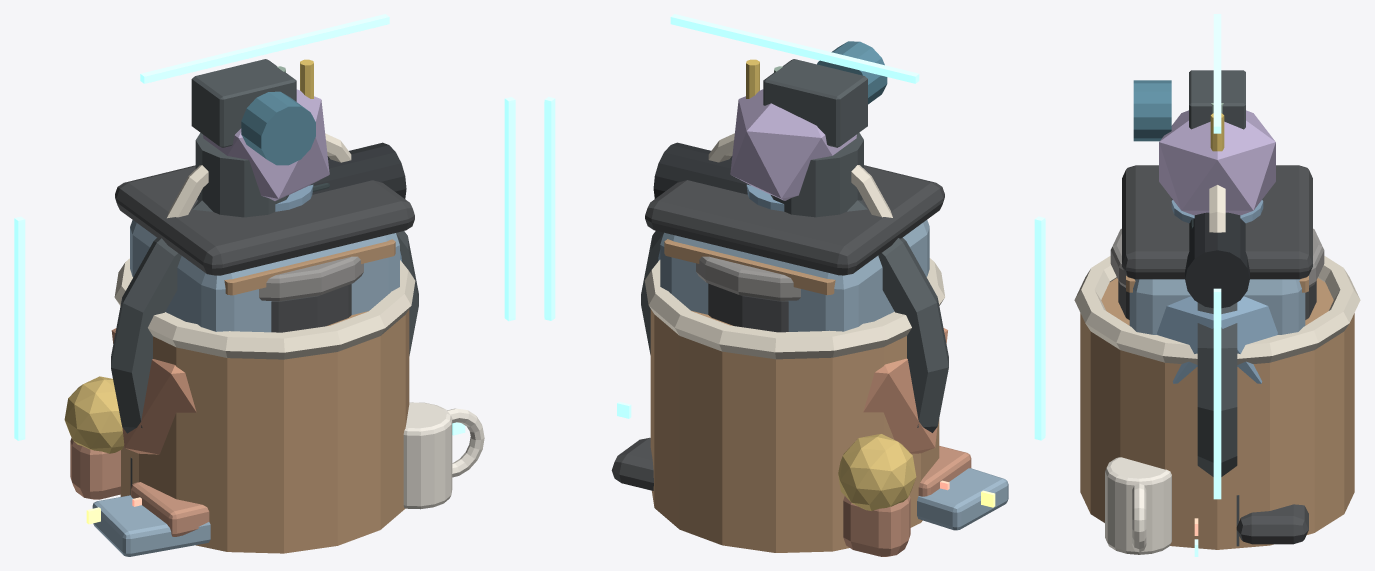
File: desk-details.glb
3 renders of one model, left to right at view 1: azimuth 30°, elevation 25°; view 2: azimuth 150°, elevation 25°; view 3: azimuth 270°, elevation 25°, orthographic. The views are drawn at different scales.
Parts seen in each view (by area): view 1: HF_WovenBasket, HF_Bin_Recycle, HF_DeskProps_Personality, HF_CameraTripod, HF_SculptureAbstract, HF_LEDStripFrame, HF_DisplayPedestal, HF_Bin_Waste, HF_BoomMicrophone; view 2: HF_WovenBasket, HF_Bin_Recycle, HF_DeskProps_Personality, HF_SculptureAbstract, HF_CameraTripod, HF_DisplayPedestal, HF_LEDStripFrame, HF_Bin_Waste, HF_BoomMicrophone; view 3: HF_WovenBasket, HF_Bin_Recycle, HF_DisplayPedestal, HF_SculptureAbstract, HF_DeskProps_Personality, HF_CameraTripod, HF_BoomMicrophone, HF_LEDStripFrame, HF_Bin_Waste, HF_DecorativeVase, HF_UmbrellaStand.
Boxes of the visible parts, bbox=[...] form: HF_WovenBasket: bbox=[114, 133, 415, 553]; HF_Bin_Recycle: bbox=[115, 165, 414, 332]; HF_DeskProps_Personality: bbox=[64, 376, 484, 556]; HF_CameraTripod: bbox=[191, 59, 315, 217]; HF_SculptureAbstract: bbox=[111, 200, 418, 454]; HF_LEDStripFrame: bbox=[14, 14, 515, 440]; HF_DisplayPedestal: bbox=[203, 89, 395, 295]; HF_Bin_Waste: bbox=[259, 256, 363, 332]; HF_BoomMicrophone: bbox=[309, 142, 406, 198]; HF_WovenBasket: bbox=[644, 133, 944, 552]; HF_Bin_Recycle: bbox=[645, 165, 944, 331]; HF_DeskProps_Personality: bbox=[611, 434, 1008, 556]; HF_SculptureAbstract: bbox=[641, 200, 948, 453]; HF_CameraTripod: bbox=[763, 41, 887, 217]; HF_DisplayPedestal: bbox=[664, 89, 856, 295]; HF_LEDStripFrame: bbox=[544, 14, 1045, 440]; HF_Bin_Waste: bbox=[696, 256, 800, 332]; HF_BoomMicrophone: bbox=[653, 142, 750, 198]; HF_WovenBasket: bbox=[1074, 185, 1360, 549]; HF_Bin_Recycle: bbox=[1122, 165, 1312, 334]; HF_DisplayPedestal: bbox=[1126, 110, 1308, 292]; HF_SculptureAbstract: bbox=[1157, 296, 1277, 476]; HF_DeskProps_Personality: bbox=[1105, 457, 1308, 554]; HF_CameraTripod: bbox=[1133, 70, 1263, 199]; HF_BoomMicrophone: bbox=[1185, 212, 1249, 308]; HF_LEDStripFrame: bbox=[1213, 14, 1221, 499]; HF_Bin_Waste: bbox=[1110, 228, 1324, 319]; HF_DecorativeVase: bbox=[1171, 200, 1263, 223]; HF_UmbrellaStand: bbox=[1210, 103, 1224, 151].
Size of the model in its own units: 1.42 by 1.22 by 0.75.
